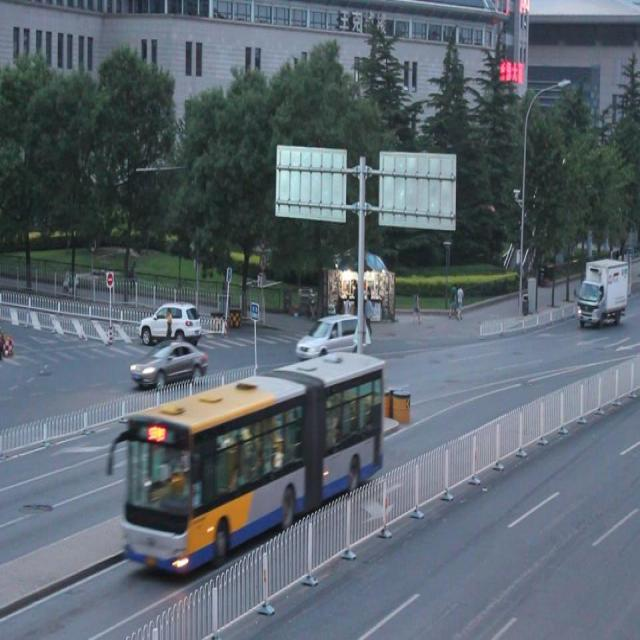bus: (576, 258, 628, 324)
car: (130, 340, 207, 384), (139, 301, 201, 350), (298, 315, 366, 357)
van: (125, 350, 384, 574)
